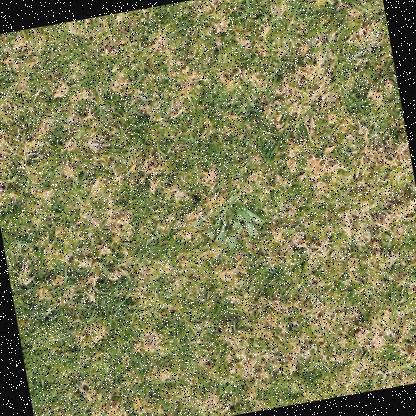Weeds: (188, 190, 271, 255)
